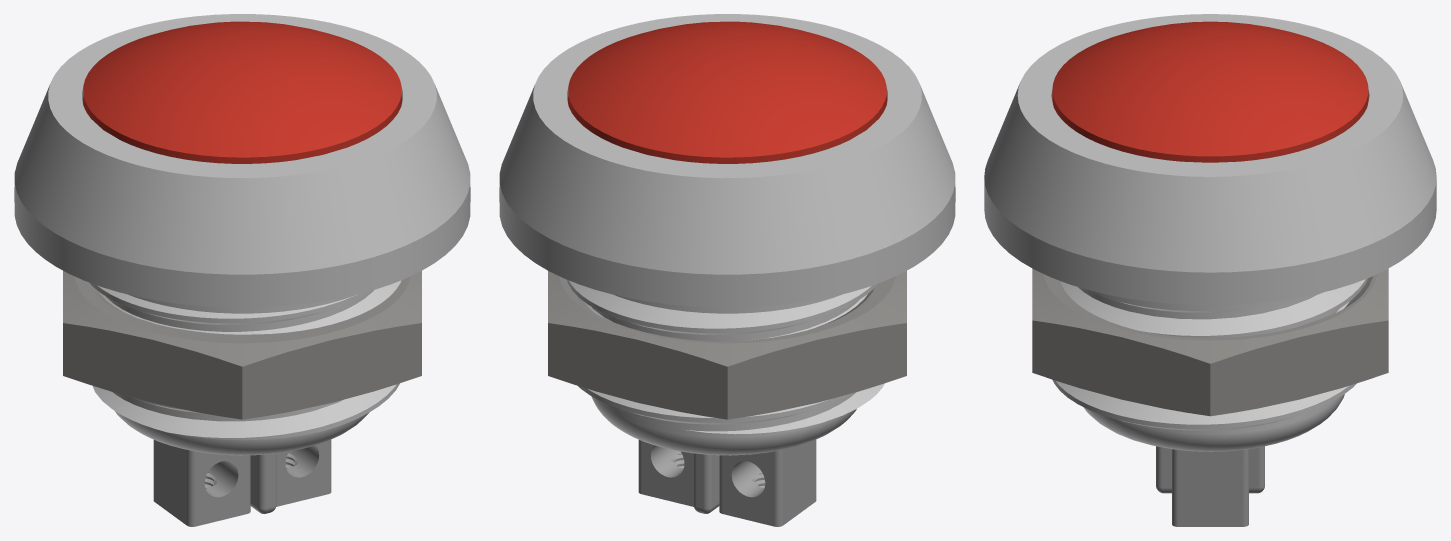
The model's file is Momentary Switch Red.fbx.
The picture shows the model from 3 angles, left to right: view 1: azimuth 30°, elevation 25°; view 2: azimuth 150°, elevation 25°; view 3: azimuth 270°, elevation 25°; orthographic projection.
Visible parts, largest first — view 1: Body1 (×3), Body2 (×2), Body3; view 2: Body1 (×3), Body2 (×2), Body3; view 3: Body1 (×3), Body2, Body3.
Part boxes in pixels (x1,y1,x2,y2): Body1 (×3): (14, 14, 470, 506); Body2 (×2): (83, 21, 401, 526); Body3: (250, 453, 276, 513); Body1 (×3): (499, 14, 955, 506); Body2 (×2): (568, 21, 886, 526); Body3: (693, 453, 719, 513); Body1 (×3): (984, 14, 1436, 526); Body2: (1052, 21, 1368, 162); Body3: (1156, 446, 1264, 493).
Size of the model in its own units: 17.6 by 18.95 by 17.6.
